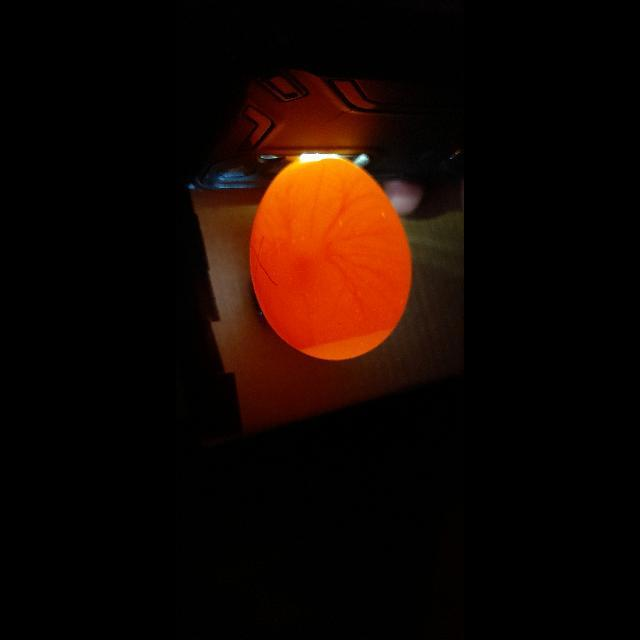Fertile: (242, 159, 414, 365)
